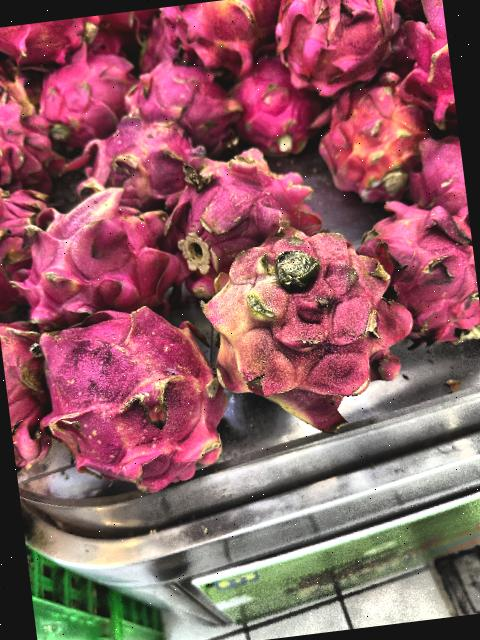buah-naga-belum-matang: (190, 222, 429, 438), (306, 70, 431, 196)
buah-naga-matang: (23, 292, 238, 498), (12, 183, 192, 324), (162, 138, 320, 272), (357, 198, 480, 353), (72, 103, 196, 211), (124, 55, 242, 166), (151, 0, 296, 89), (269, 0, 411, 85), (23, 48, 148, 144), (231, 50, 323, 156), (0, 69, 79, 190), (0, 315, 56, 473), (394, 0, 458, 131), (403, 138, 468, 225), (0, 15, 103, 69), (0, 181, 50, 282)
